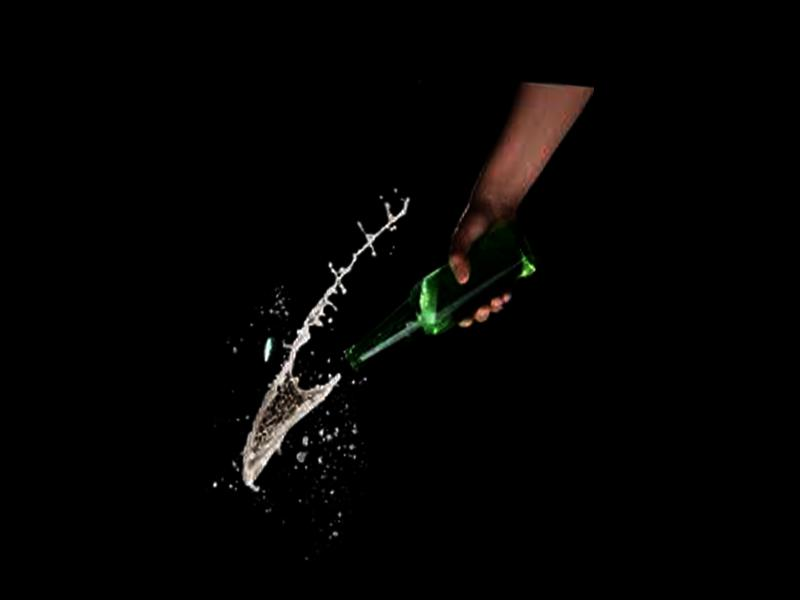Beer: (343, 203, 545, 390)
